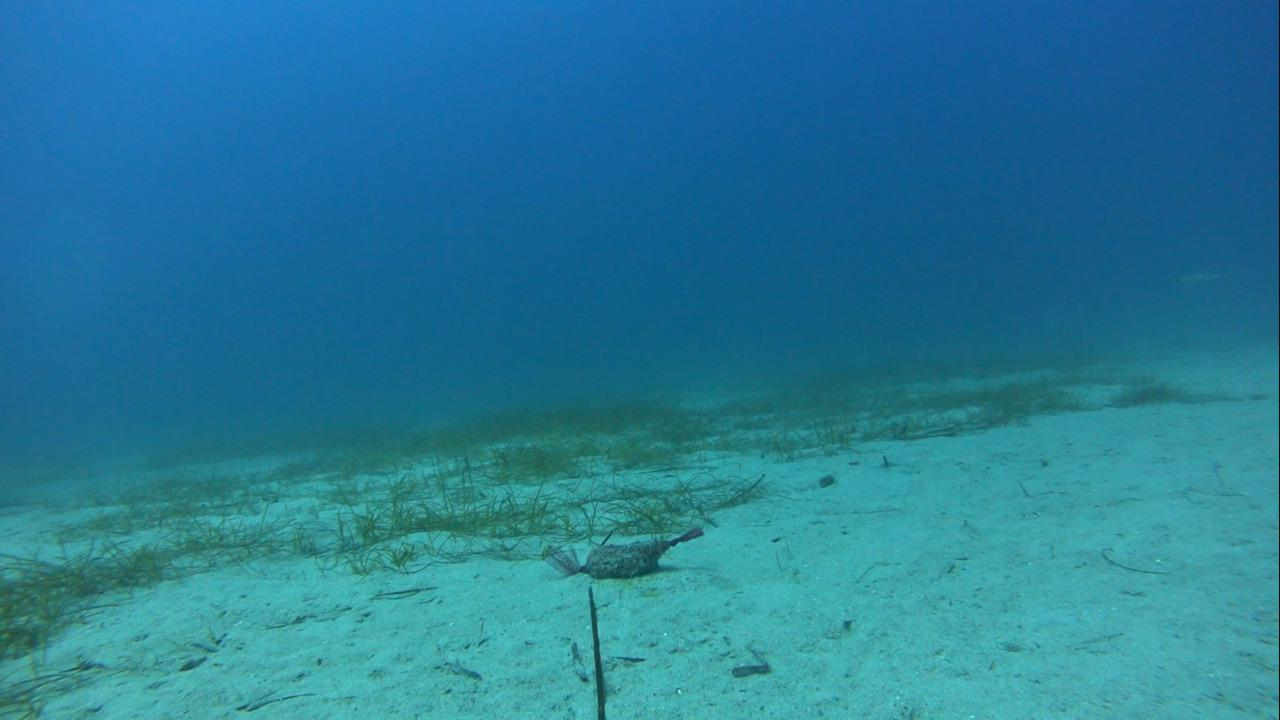dactylopterus: (1175, 260, 1238, 287)
